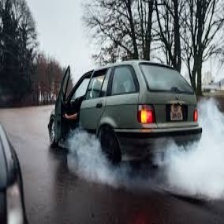smoke: (169, 101, 224, 198), (70, 135, 99, 175)
